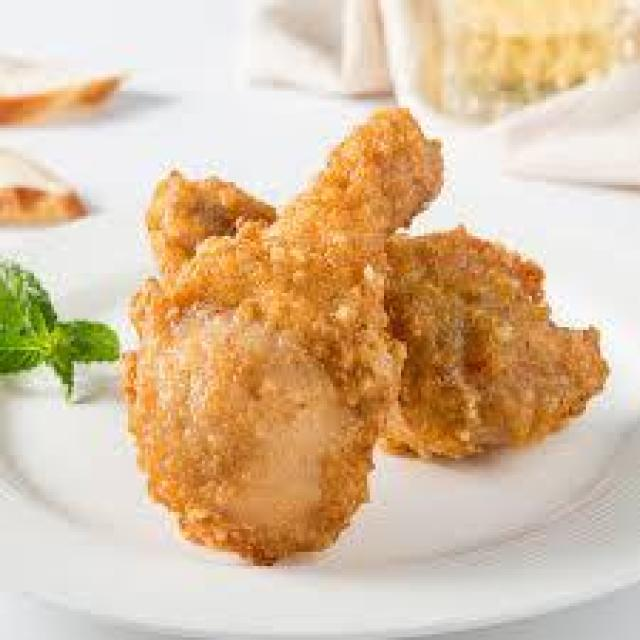Frango: (142, 142, 612, 464), (128, 94, 438, 560)
